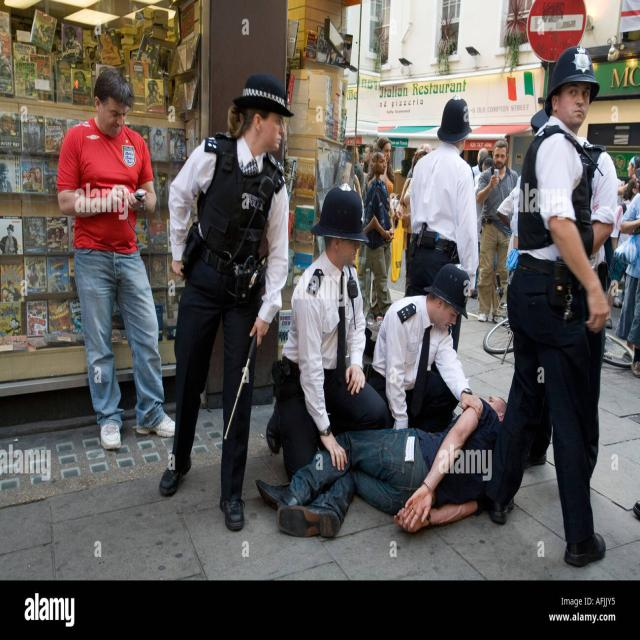police: (480, 40, 639, 568), (145, 69, 294, 530), (276, 181, 381, 479), (379, 90, 494, 304), (362, 255, 488, 436)
